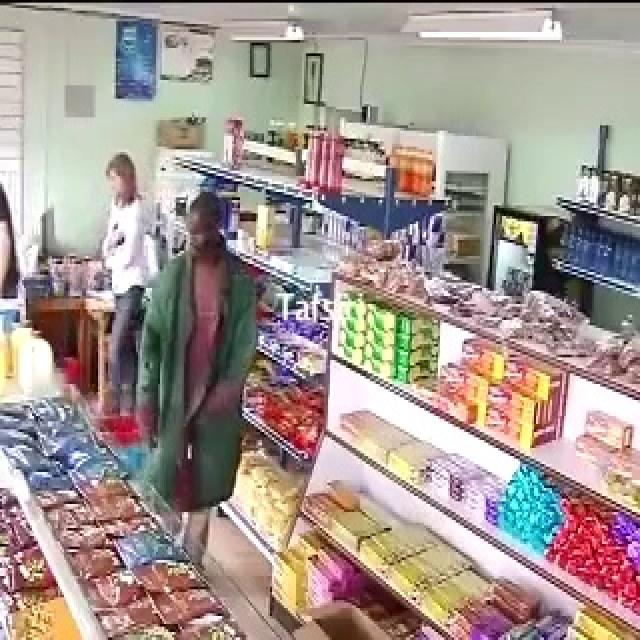normal: (126, 185, 266, 510), (103, 139, 165, 259)
